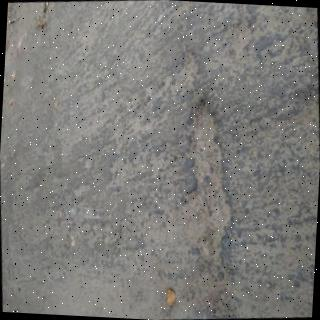pothole: (184, 100, 231, 276)
